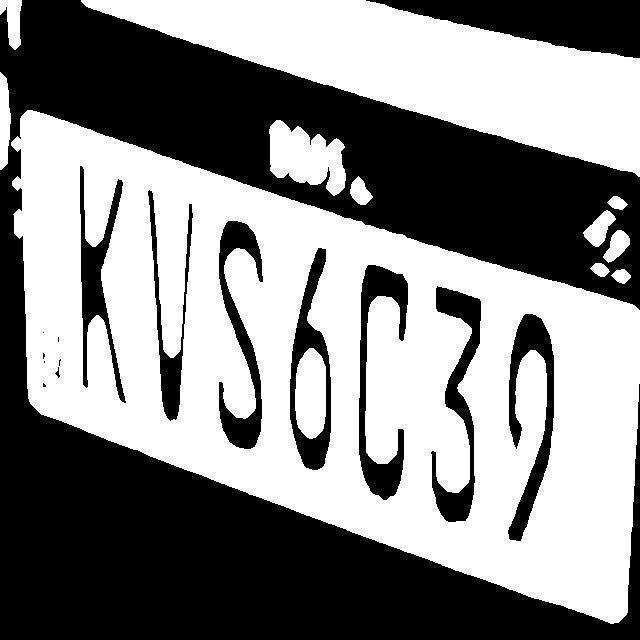3: (422, 267, 494, 533)
6: (284, 240, 342, 476)
9: (498, 304, 564, 544)
c: (346, 253, 420, 514)
k: (64, 160, 137, 413)
s: (205, 212, 275, 468)
v: (126, 184, 203, 432)
